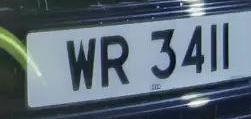1: (213, 16, 234, 79)
3: (147, 20, 180, 90)
4: (179, 18, 209, 83)
R: (95, 29, 134, 92)
W: (61, 31, 101, 97)
